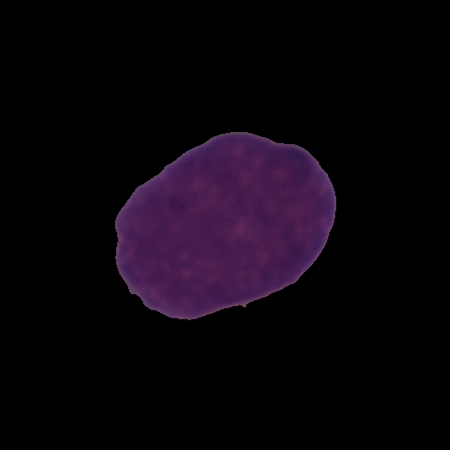HEM: (111, 127, 341, 323)
